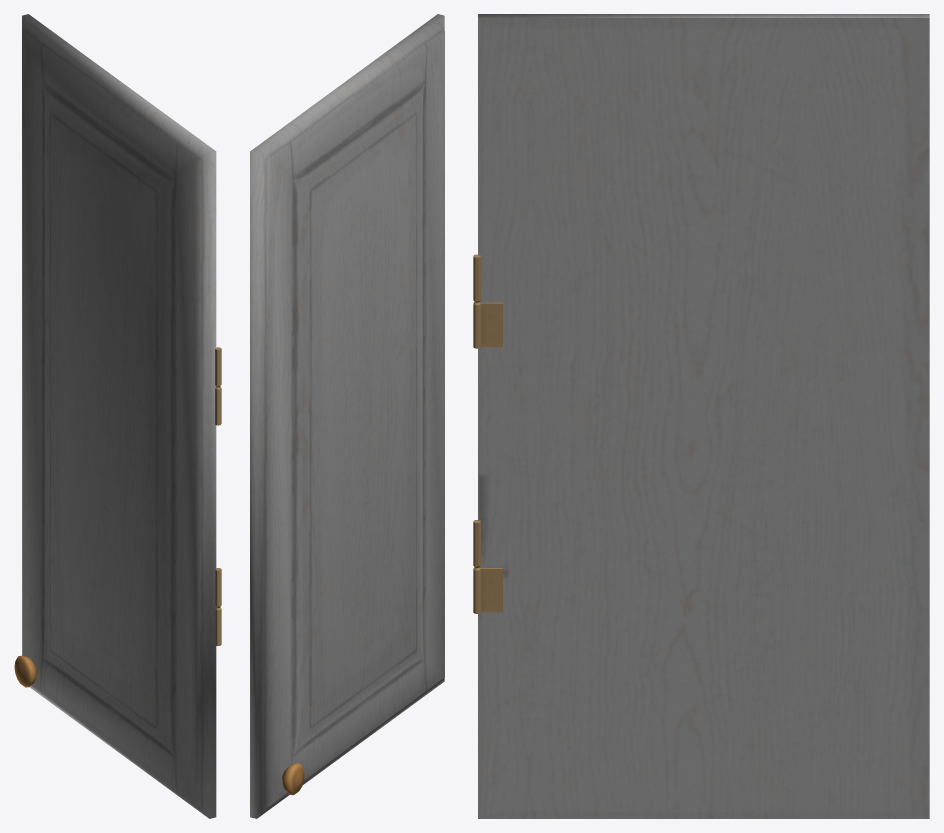
Rendered from SM_KitchenSet_B1_DoorA1.fbx.
3 views of the same model, side by side, from view 1: azimuth 30°, elevation 25°; view 2: azimuth 150°, elevation 25°; view 3: azimuth 270°, elevation 25° (orthographic). The views are drawn at different scales.
Parts seen in each view (by area): view 1: SM_KitchenSet_B1_DoorA1; view 2: SM_KitchenSet_B1_DoorA1; view 3: SM_KitchenSet_B1_DoorA1.
Part boxes in pixels (x1=…): SM_KitchenSet_B1_DoorA1: x1=14, y1=14, x2=221, y2=818; SM_KitchenSet_B1_DoorA1: x1=250, y1=14, x2=444, y2=818; SM_KitchenSet_B1_DoorA1: x1=473, y1=14, x2=929, y2=818.
Size of the model in its own units: 4.63 by 43.69 by 84.61.
Materials: 2 (2 with a texture image).
